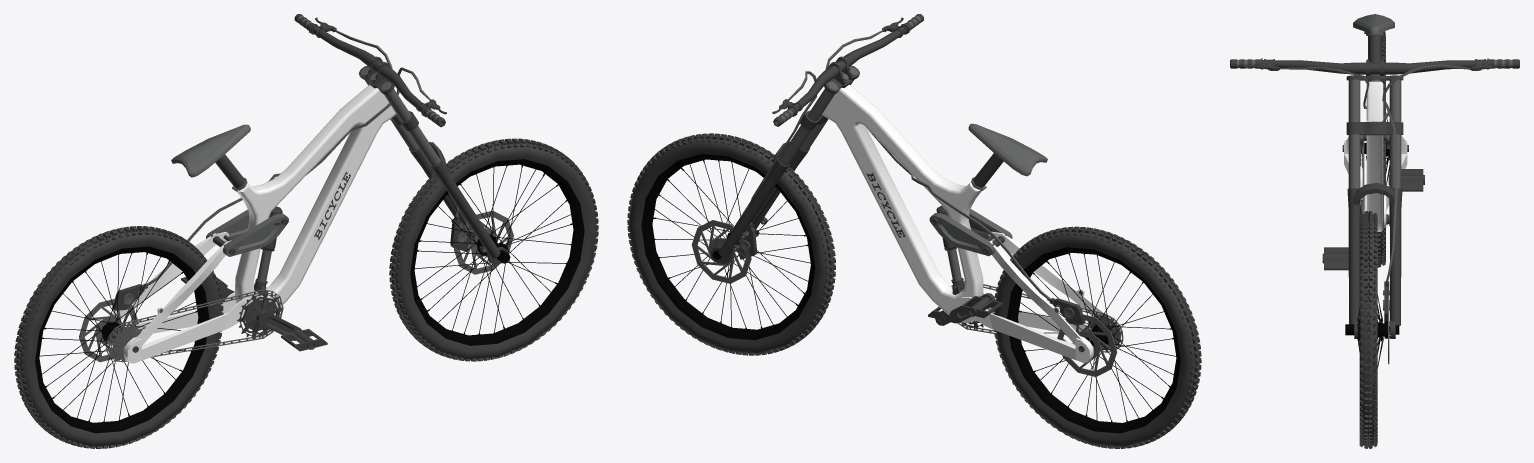
Rendered from bike1.glb.
The picture shows the model from 3 angles, left to right: view 1: azimuth 30°, elevation 25°; view 2: azimuth 150°, elevation 25°; view 3: azimuth 270°, elevation 25°; orthographic projection.
Parts seen in each view (by area): view 1: Body_Mat Body_0, Wheel_B_Textures_0, Wheel_F_Textures_0, Body_Textures_0, Wheel_F_Mat Wheel_0, Steer_Textures_0, Wheel_B_Mat Wheel_0, Pedal_Textures_0, Pedal_R_Textures_0; view 2: Body_Mat Body_0, Wheel_F_Textures_0, Wheel_B_Textures_0, Steer_Textures_0, Wheel_F_Mat Wheel_0, Body_Textures_0, Wheel_B_Mat Wheel_0, Pedal_L_Textures_0; view 3: Steer_Textures_0, Wheel_F_Textures_0, Body_Mat Body_0, Body_Textures_0, Wheel_B_Textures_0, Wheel_F_Mat Wheel_0, Pedal_R_Textures_0, Pedal_L_Textures_0.
Part boxes in pixels (x1=…): Body_Mat Body_0: x1=96, y1=84, x2=396, y2=363; Wheel_B_Textures_0: x1=14, y1=226, x2=223, y2=448; Wheel_F_Textures_0: x1=389, y1=138, x2=598, y2=361; Body_Textures_0: x1=106, y1=124, x2=470, y2=362; Wheel_F_Mat Wheel_0: x1=410, y1=159, x2=584, y2=345; Steer_Textures_0: x1=146, y1=14, x2=508, y2=285; Wheel_B_Mat Wheel_0: x1=35, y1=246, x2=209, y2=433; Pedal_Textures_0: x1=218, y1=284, x2=301, y2=340; Pedal_R_Textures_0: x1=281, y1=329, x2=327, y2=351; Body_Mat Body_0: x1=822, y1=84, x2=1120, y2=362; Wheel_F_Textures_0: x1=627, y1=133, x2=835, y2=355; Wheel_B_Textures_0: x1=993, y1=226, x2=1201, y2=448; Steer_Textures_0: x1=710, y1=14, x2=1050, y2=300; Wheel_F_Mat Wheel_0: x1=641, y1=154, x2=815, y2=340; Body_Textures_0: x1=737, y1=123, x2=1123, y2=352; Wheel_B_Mat Wheel_0: x1=1007, y1=247, x2=1180, y2=433; Pedal_L_Textures_0: x1=956, y1=295, x2=1002, y2=318; Steer_Textures_0: x1=1230, y1=58, x2=1519, y2=338; Wheel_F_Textures_0: x1=1359, y1=211, x2=1390, y2=448; Body_Mat Body_0: x1=1344, y1=81, x2=1407, y2=231; Body_Textures_0: x1=1342, y1=14, x2=1408, y2=322; Wheel_B_Textures_0: x1=1360, y1=33, x2=1385, y2=267; Wheel_F_Mat Wheel_0: x1=1345, y1=294, x2=1399, y2=368; Pedal_R_Textures_0: x1=1322, y1=247, x2=1348, y2=270; Pedal_L_Textures_0: x1=1388, y1=169, x2=1424, y2=191.
Bounding box in the file's own units: 1.35 × 0.7199 × 0.5852.
3 materials, 1 textured.
